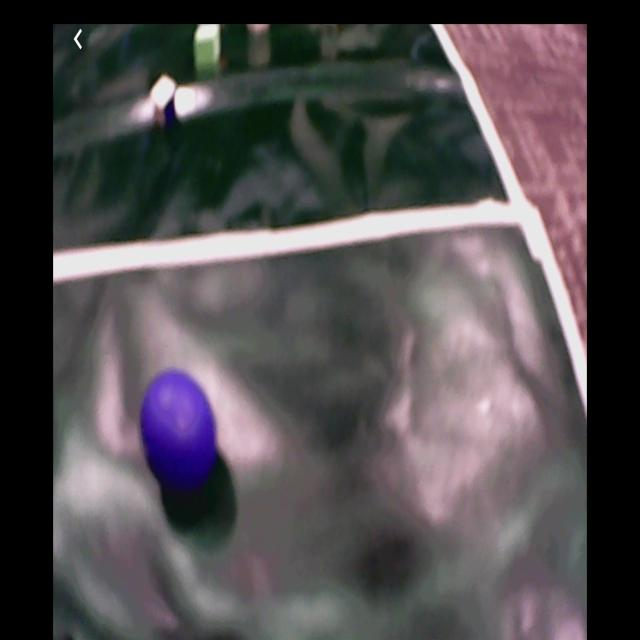ball: (143, 368, 217, 485)
